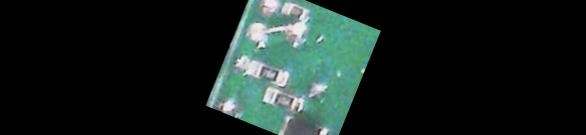chip-resistor: (243, 54, 291, 88), (262, 82, 307, 114), (275, 0, 312, 23)
diode: (275, 108, 333, 135)
